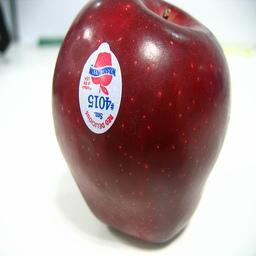apple: (50, 0, 231, 249)
